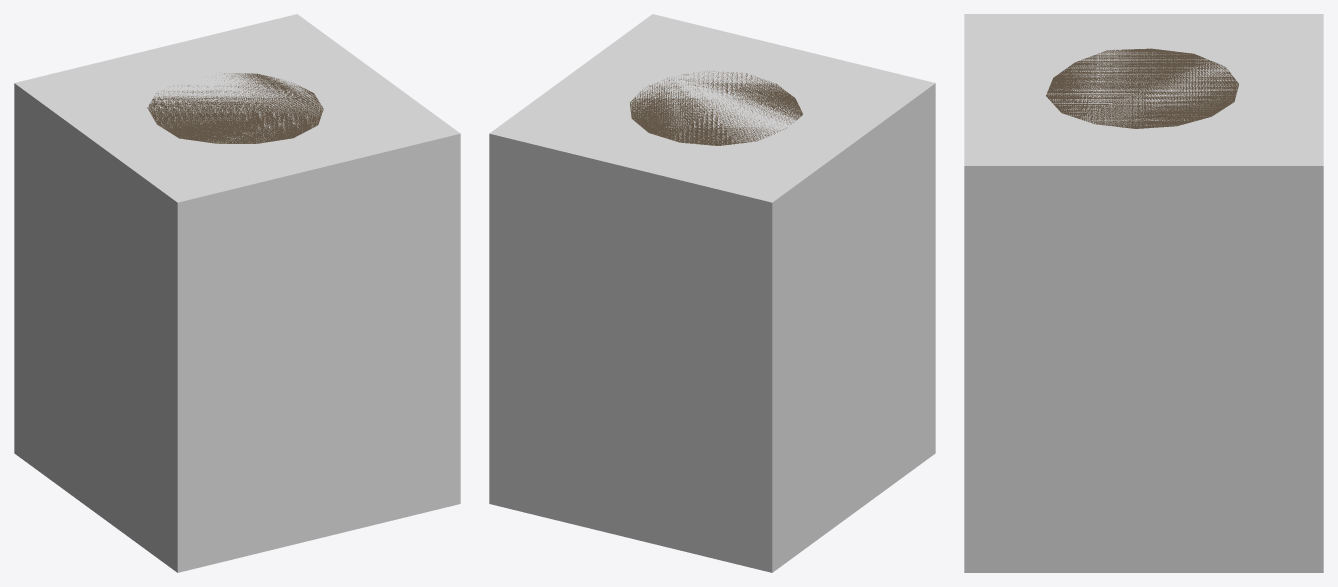
The model's file is anchor_hoodoo_a.glb.
The picture shows the model from 3 angles, left to right: view 1: azimuth 30°, elevation 25°; view 2: azimuth 150°, elevation 25°; view 3: azimuth 270°, elevation 25°; orthographic projection. The views are drawn at different scales.
Parts seen in each view (by area): view 1: anchor_hoodoo_a-col, anchor_hoodoo_a; view 2: anchor_hoodoo_a-col, anchor_hoodoo_a; view 3: anchor_hoodoo_a-col, anchor_hoodoo_a.
Part boxes in pixels (bbox=[...]): anchor_hoodoo_a-col: bbox=[14, 14, 460, 572]; anchor_hoodoo_a: bbox=[147, 73, 323, 143]; anchor_hoodoo_a-col: bbox=[489, 14, 935, 572]; anchor_hoodoo_a: bbox=[630, 71, 802, 145]; anchor_hoodoo_a-col: bbox=[964, 14, 1323, 572]; anchor_hoodoo_a: bbox=[1046, 48, 1238, 128].
Bounding box in the file's own units: 8 × 10 × 8.
